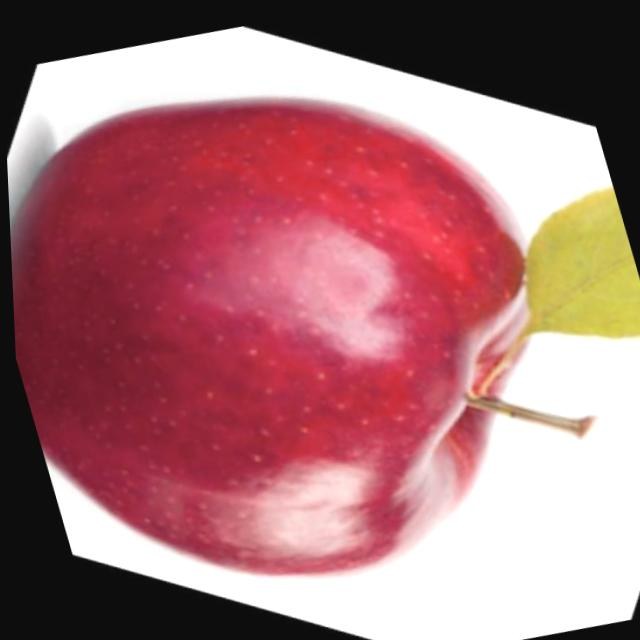Apple: (0, 13, 624, 640)
